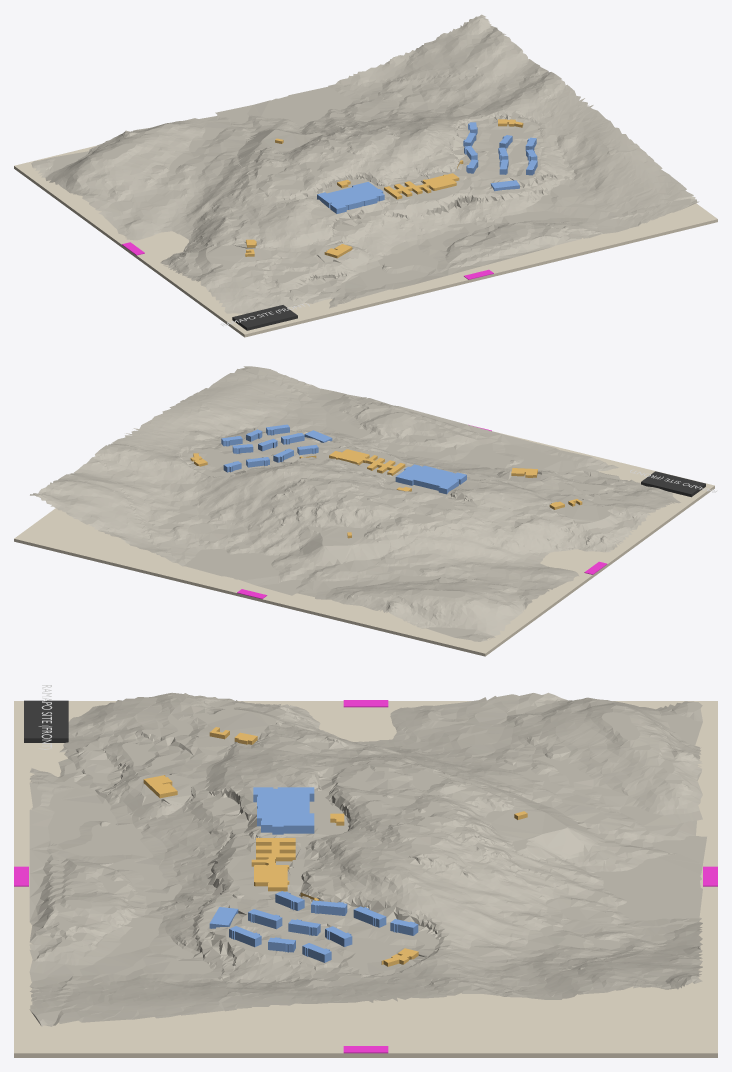
Rendered from site-scene.glb.
3 renders of one model, top to bottom at view 1: azimuth 30°, elevation 25°; view 2: azimuth 150°, elevation 25°; view 3: azimuth 270°, elevation 25°, orthographic. The views are drawn at different scales.
Visible parts, largest first — view 1: site_terrain, site_ledge, building_00, ramapo_site_marker, building_01; view 2: site_terrain, site_ledge, building_00, ramapo_site_marker, building_01; view 3: site_terrain, site_ledge, building_00, building_01, ramapo_site_marker.
Boxes of the visible parts, x1,y1,x2,y2 form: site_terrain: (31, 14, 699, 313); site_ledge: (14, 145, 717, 337); building_00: (317, 182, 384, 213); ramapo_site_marker: (232, 305, 297, 330); building_01: (384, 173, 459, 199); site_terrain: (30, 366, 680, 641); site_ledge: (14, 431, 714, 656); building_00: (395, 464, 466, 494); ramapo_site_marker: (641, 471, 705, 497); building_01: (329, 449, 405, 475); site_terrain: (29, 692, 706, 1026); site_ledge: (14, 701, 717, 1057); building_00: (253, 787, 314, 834); building_01: (251, 838, 295, 891); ramapo_site_marker: (24, 700, 68, 742).
Size of the model in its own units: 1.72 by 0.1524 by 1.41.
